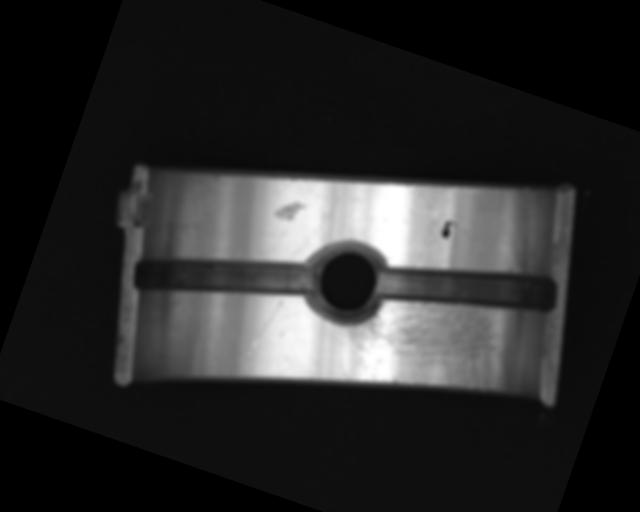blot: (438, 218, 458, 241)
bruise: (271, 195, 306, 227)
gap: (129, 211, 318, 341), (372, 224, 562, 353)
hole: (301, 231, 396, 332)
nick: (246, 295, 283, 359)
scratch: (325, 255, 532, 429)
